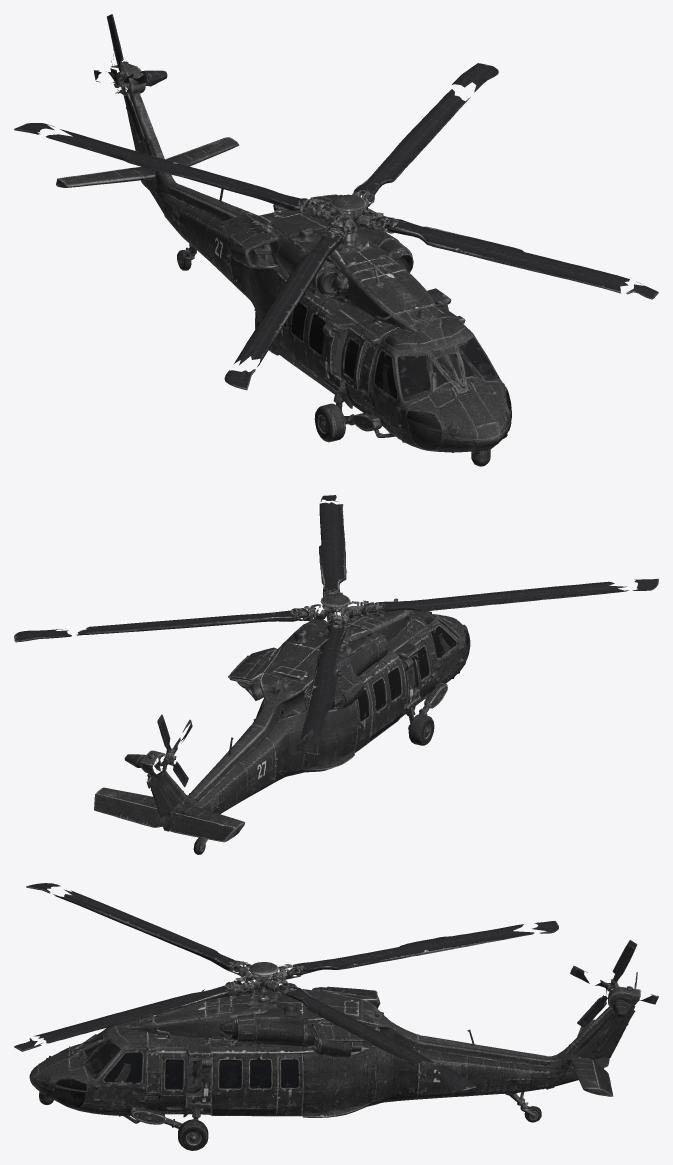
Rendered from heli.glb.
3 renders of one model, top to bottom at view 1: azimuth 30°, elevation 25°; view 2: azimuth 150°, elevation 25°; view 3: azimuth 270°, elevation 25°, orthographic. The views are drawn at different scales.
Visible parts, largest first — view 1: frame, rotor, tail; view 2: frame, rotor, tail; view 3: frame, rotor, tail.
Part boxes in pixels (<box>): frame: <box>14,49,658,466</box>; rotor: <box>46,89,629,366</box>; tail: <box>106,14,133,92</box>; frame: <box>14,495,658,854</box>; rotor: <box>76,502,629,738</box>; tail: <box>154,714,180,771</box>; frame: <box>14,883,658,1150</box>; rotor: <box>33,889,534,1069</box>; tail: <box>595,940,641,994</box>.
Bounding box in the file's own units: 15.2 × 6.09 × 19.85.
Materials: 1 (1 with a texture image).
